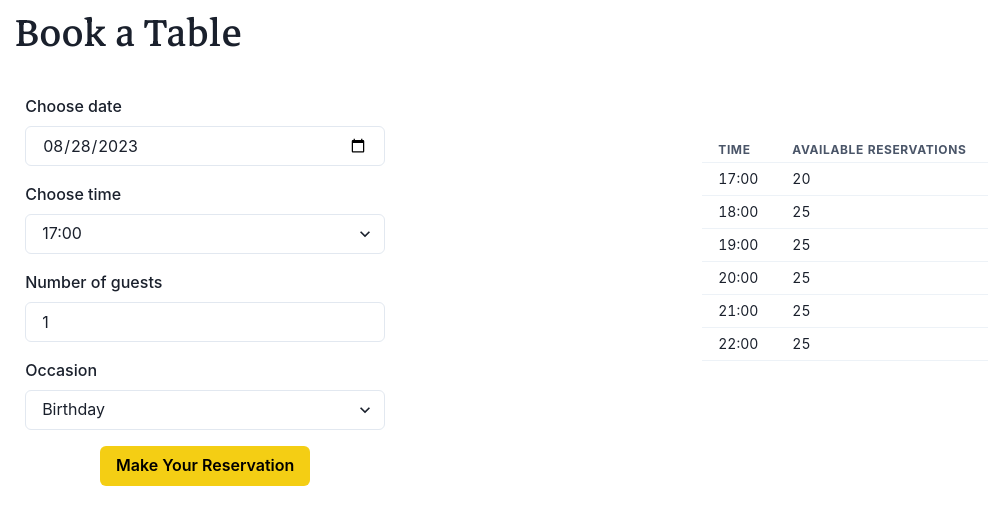
Scenario: Test Cases for Booking Functionality › Invalid date input test
Type "2023-08-25" into the date field labelled "Choose date". click: (205, 146)
box: [25, 126, 385, 166]
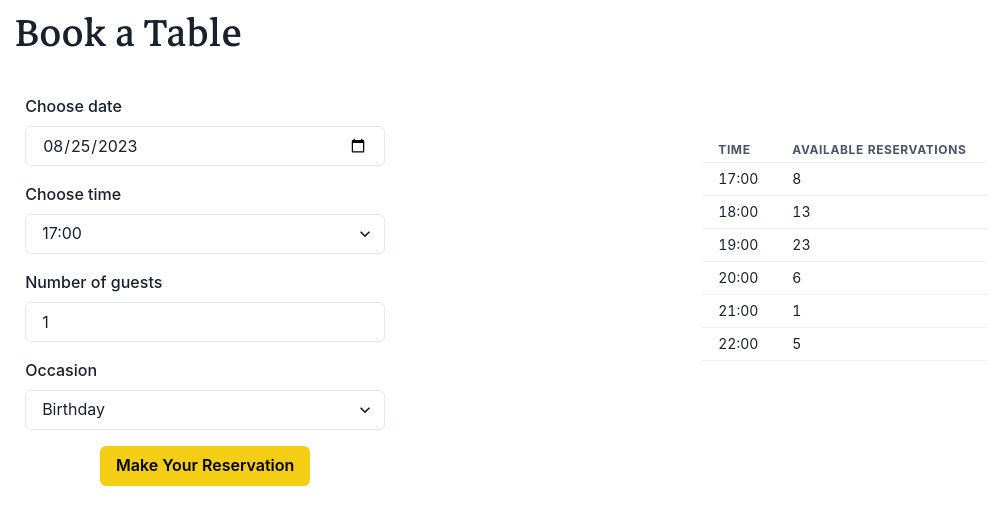
Click the button "Make Your Reservation". click: click(205, 466)
box: [100, 446, 310, 486]
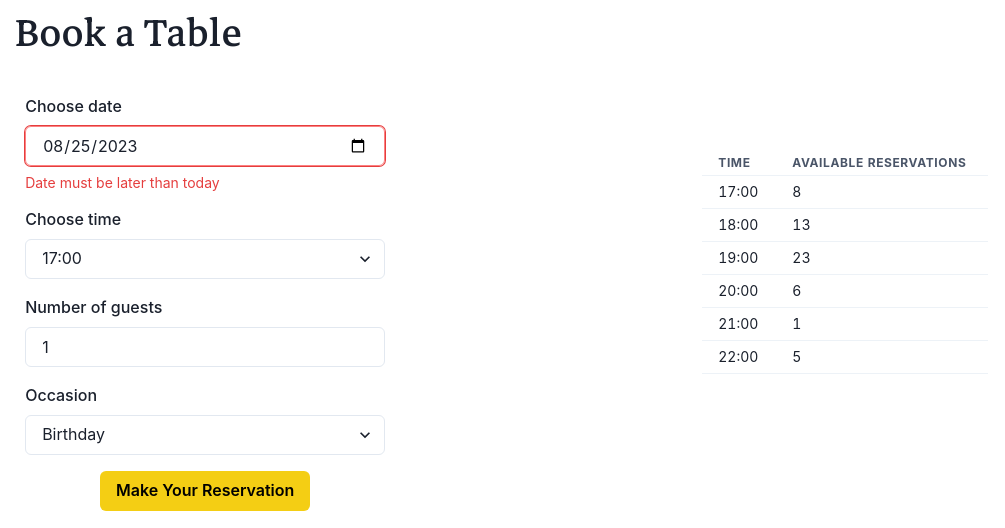
Expected: the text "Date must be later than today" is shown, [25, 174, 220, 191]
